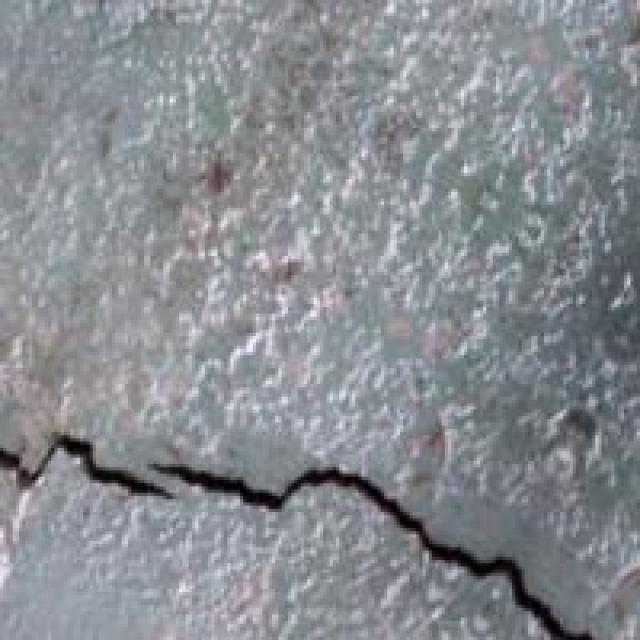crack: (0, 381, 582, 637)
